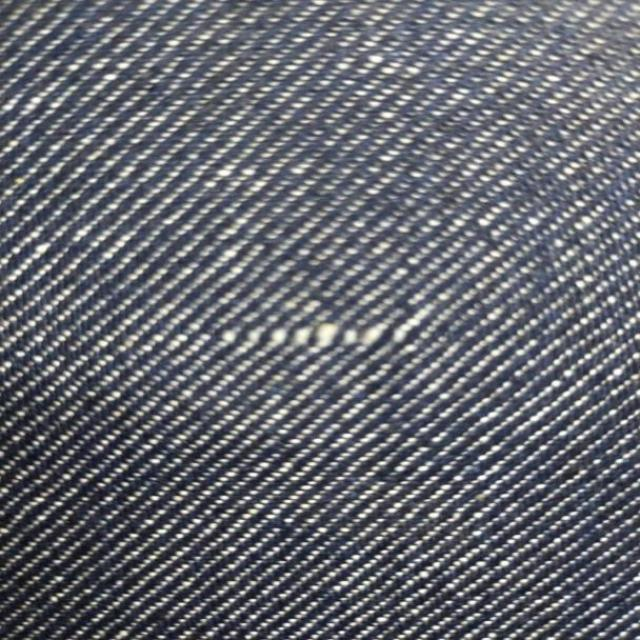Knot: (220, 322, 412, 349)
